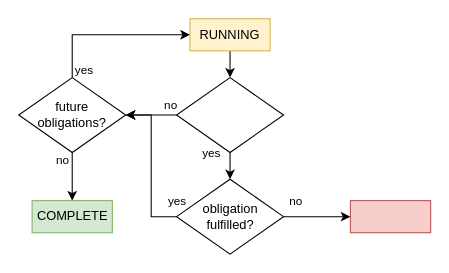
Some shapes in this 449 by 273 pixel diagram are drawn without their labels. Here are the shapes that lost their labels. From the top down, the box of each, then its label:
(175, 77, 284, 152): obligation present?
(349, 200, 431, 233): VIOLATION
